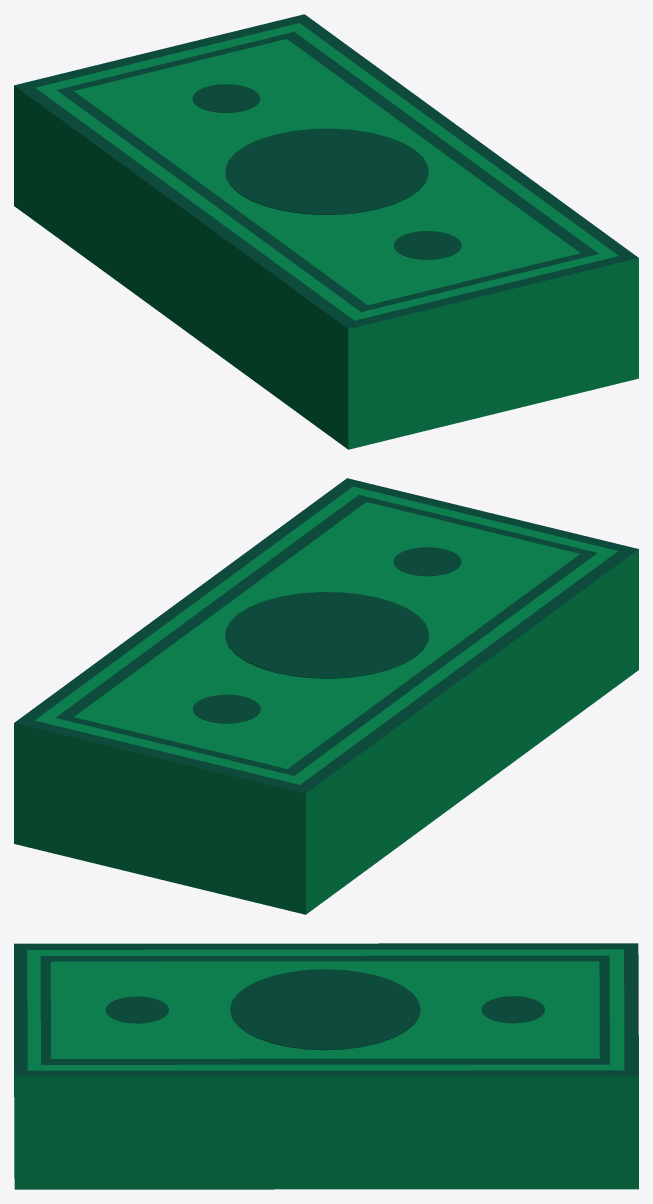
File: Merchant@Money.fbx
The picture shows the model from 3 angles, top to bottom: view 1: azimuth 30°, elevation 25°; view 2: azimuth 150°, elevation 25°; view 3: azimuth 270°, elevation 25°; orthographic projection. The views are drawn at different scales.
Parts seen in each view (by area): view 1: Money_Lowpoly1; view 2: Money_Lowpoly1; view 3: Money_Lowpoly1.
Boxes of the visible parts, <box> form: Money_Lowpoly1: <box>14,14,638,449</box>; Money_Lowpoly1: <box>14,478,638,914</box>; Money_Lowpoly1: <box>14,943,638,1189</box>.
Bounding box in the file's own units: 10.22 × 4.06 × 20.24.
Materials: 1 (1 with a texture image).
